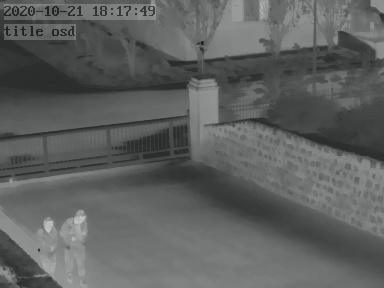person: (62, 207, 87, 283), (36, 216, 59, 279)
